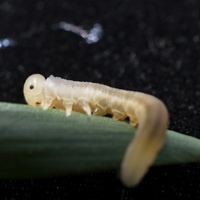insect: (23, 74, 168, 186)
